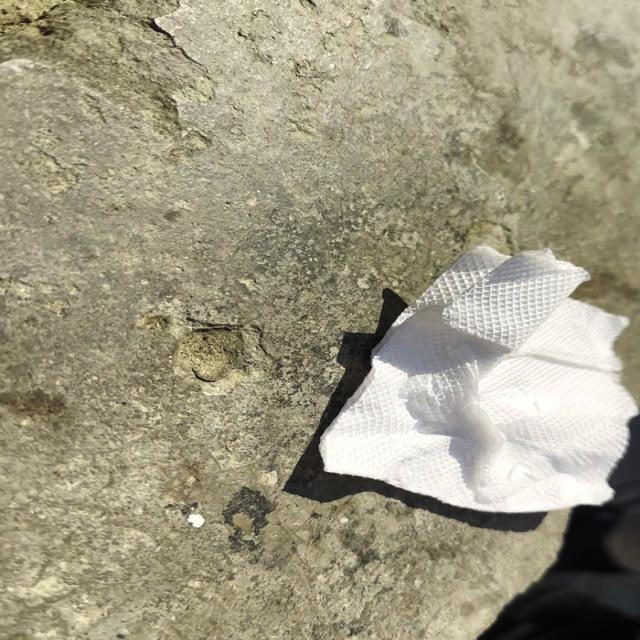tissue: (316, 244, 632, 514)
